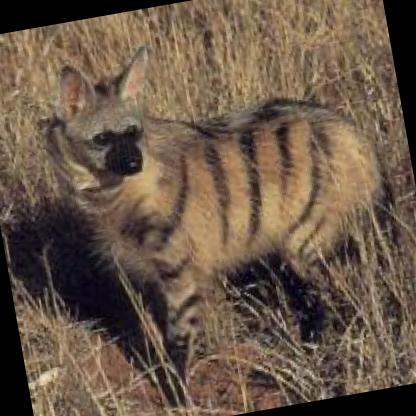African_hunting_dog: (18, 6, 416, 416)
